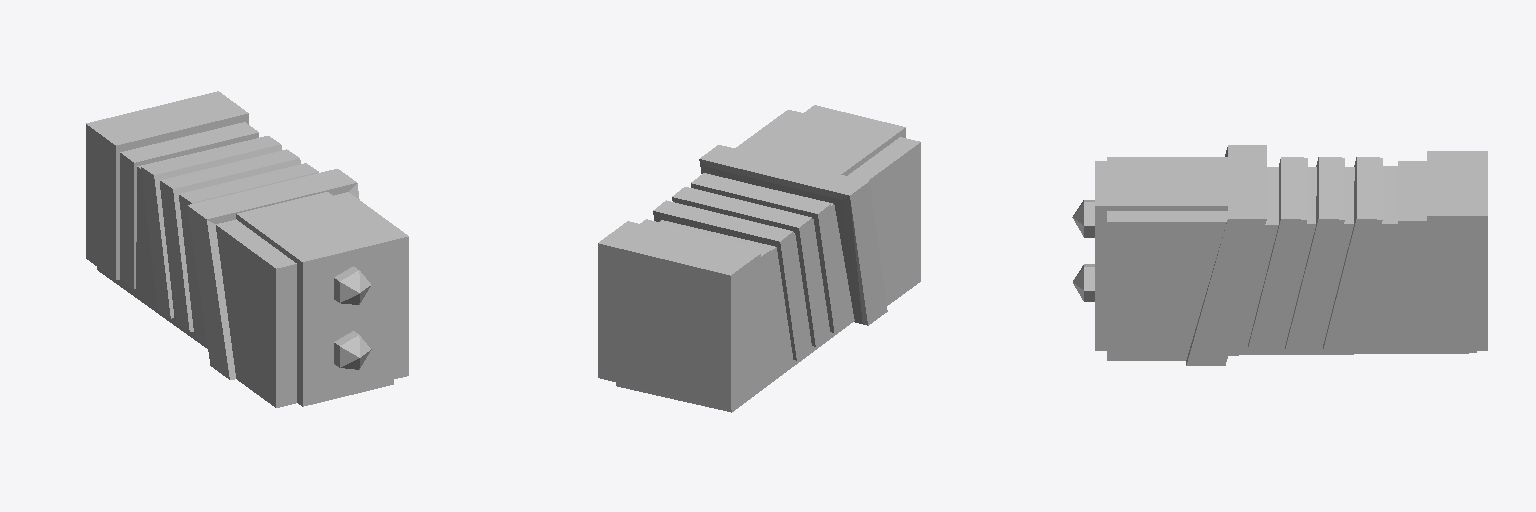
File: staticleftarm.obj
3 renders of one model, left to right at view 1: azimuth 30°, elevation 25°; view 2: azimuth 150°, elevation 25°; view 3: azimuth 270°, elevation 25°, orthographic.
Parts seen in each view (by area): view 1: polySurface19; view 2: polySurface19; view 3: polySurface19.
Part boxes in pixels (x1,y1,x2,y2): polySurface19: (86, 91, 408, 407); polySurface19: (598, 105, 920, 412); polySurface19: (1072, 145, 1487, 365).
Bounding box in the file's own units: 1.48 × 1.39 × 3.54.